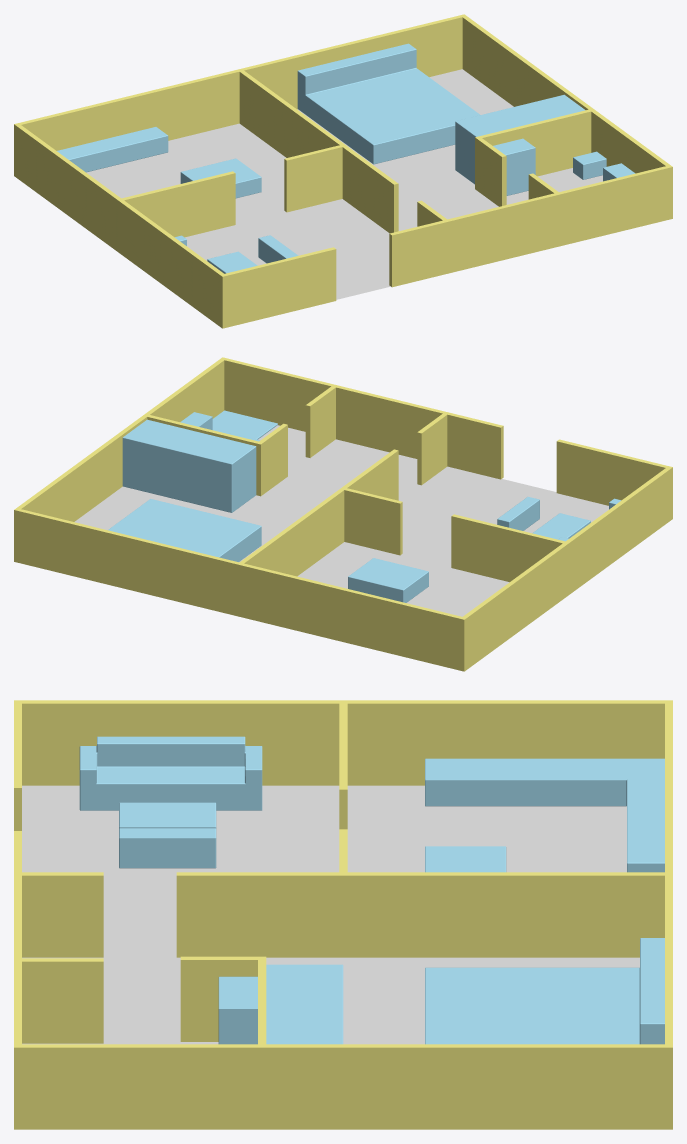
Rendered from layout1.glb.
3 views of the same model, one above another, from view 1: azimuth 30°, elevation 25°; view 2: azimuth 150°, elevation 25°; view 3: azimuth 270°, elevation 25° (orthographic). The views are drawn at different scales.
Parts seen in each view (by area): view 1: walls, bed1, livingRoom, kitchen, bedroom1, cupboard1, counter1, cupboard2, dining1, bathroom1, toilatte1, tvUnit1 (+1 smaller); view 2: walls, cupboard1, bedroom1, livingRoom, bed1, kitchen, dining1, shower1, tvUnit1, coffetable1, bathroom1; view 3: walls, livingRoom, bed1, kitchen, bedroom1, counter1, sofa1, cupboard1, tvUnit1, cupboard2, coffetable1, dining1.
Boxes of the visible parts, bbox=[...] form: walls: bbox=[14, 14, 672, 328]; bed1: bbox=[297, 43, 479, 164]; livingRoom: bbox=[185, 199, 390, 299]; kitchen: bbox=[86, 123, 286, 223]; bedroom1: bbox=[297, 69, 513, 230]; cupboard1: bbox=[455, 94, 585, 184]; counter1: bbox=[57, 127, 168, 172]; cupboard2: bbox=[493, 138, 535, 195]; dining1: bbox=[180, 158, 261, 198]; bathroom1: bbox=[506, 168, 602, 204]; toilatte1: bbox=[573, 151, 606, 179]; tvUnit1: bbox=[258, 235, 298, 263]; walls: bbox=[14, 357, 672, 671]; cupboard1: bbox=[122, 419, 256, 512]; bedroom1: bbox=[74, 439, 418, 562]; livingRoom: bbox=[399, 466, 608, 566]; bed1: bbox=[108, 499, 261, 561]; kitchen: bbox=[297, 542, 509, 616]; dining1: bbox=[348, 558, 428, 602]; shower1: bbox=[212, 410, 277, 439]; tvUnit1: bbox=[497, 496, 539, 530]; coffetable1: bbox=[532, 513, 590, 539]; bathroom1: bbox=[258, 425, 307, 471]; walls: bbox=[14, 700, 672, 1129]; livingRoom: bbox=[22, 785, 339, 956]; bed1: bbox=[425, 938, 664, 1044]; kitchen: bbox=[347, 785, 626, 872]; bedroom1: bbox=[22, 956, 639, 1044]; counter1: bbox=[425, 758, 664, 872]; sofa1: bbox=[79, 736, 262, 810]; cupboard1: bbox=[266, 964, 343, 1044]; tvUnit1: bbox=[119, 828, 216, 868]; cupboard2: bbox=[218, 976, 257, 1044]; coffetable1: bbox=[119, 802, 216, 828]; dining1: bbox=[425, 846, 506, 872].
Bounding box in the file's own units: 10.1 × 1.12 × 8.1.
